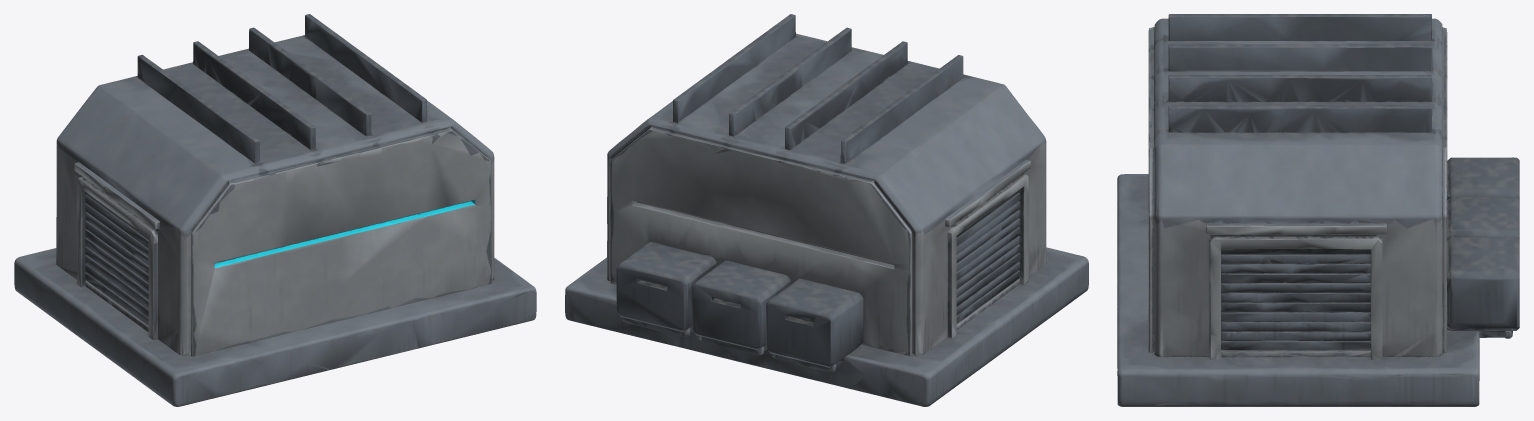
Rendered from town-storage-full.glb.
3 renders of one model, left to right at view 1: azimuth 30°, elevation 25°; view 2: azimuth 150°, elevation 25°; view 3: azimuth 270°, elevation 25°, orthographic. The views are drawn at different scales.
Visible parts, largest first — view 1: town-storage-full; view 2: town-storage-full; view 3: town-storage-full.
Boxes of the visible parts, x1=… form: town-storage-full: x1=14, y1=14, x2=536, y2=406; town-storage-full: x1=565, y1=14, x2=1088, y2=406; town-storage-full: x1=1117, y1=14, x2=1519, y2=406.
Bounding box in the file's own units: 10.8 × 6.37 × 9.22.
Materials: 1 (1 with a texture image).
